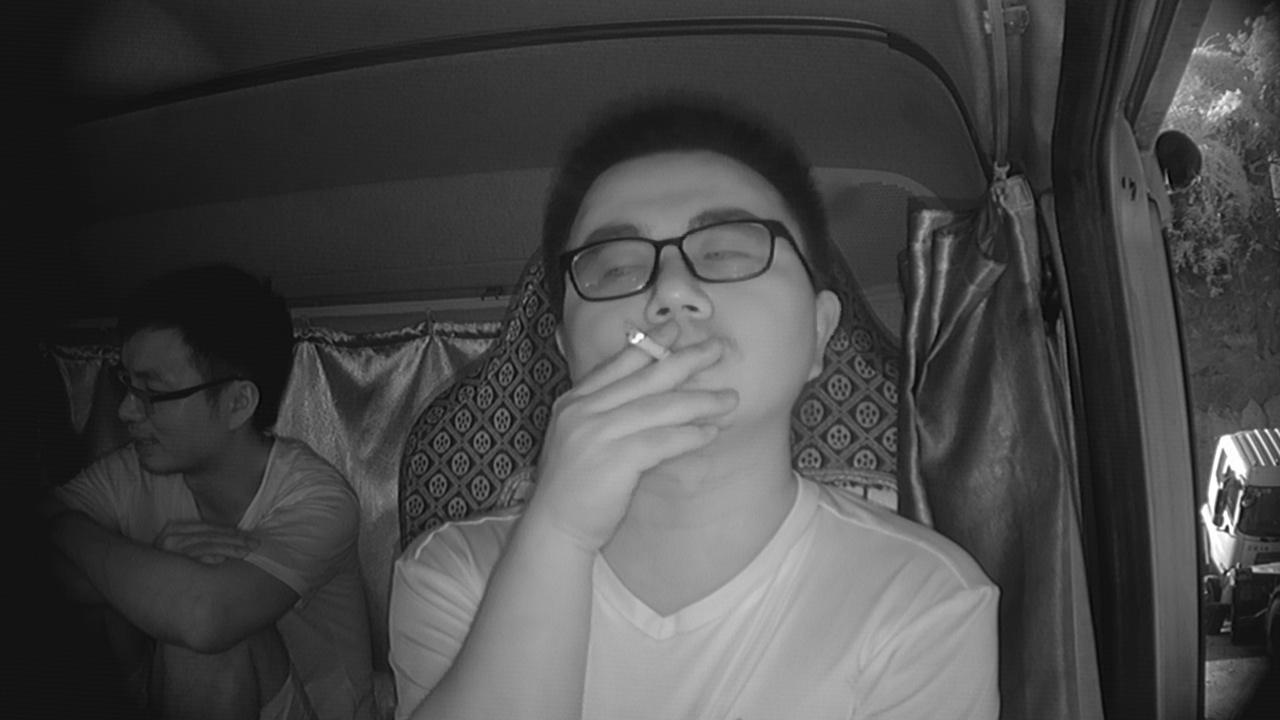hand: (563, 323, 727, 510)
